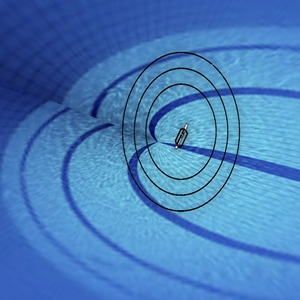circle: (113, 39, 252, 221)
submarine: (167, 115, 196, 159)
